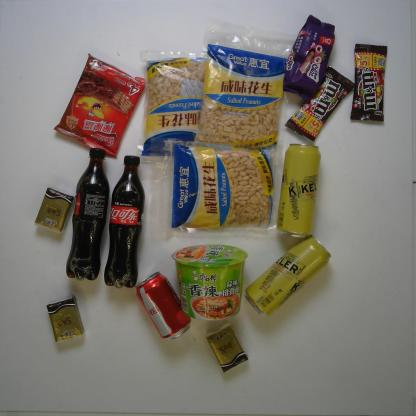Alcohol: (244, 234, 332, 318), (274, 140, 322, 239)
Chocolate: (282, 63, 357, 143), (348, 41, 390, 125)
Dessert: (51, 51, 146, 160), (280, 12, 338, 106)
Dried Fruit: (146, 136, 286, 242), (191, 27, 297, 151), (133, 48, 207, 184)
Drink: (63, 146, 110, 282), (102, 153, 146, 290), (133, 270, 192, 342)
Instant Noodles: (168, 242, 250, 323)
Tissue: (203, 320, 250, 374), (32, 185, 78, 236), (44, 294, 87, 346)
